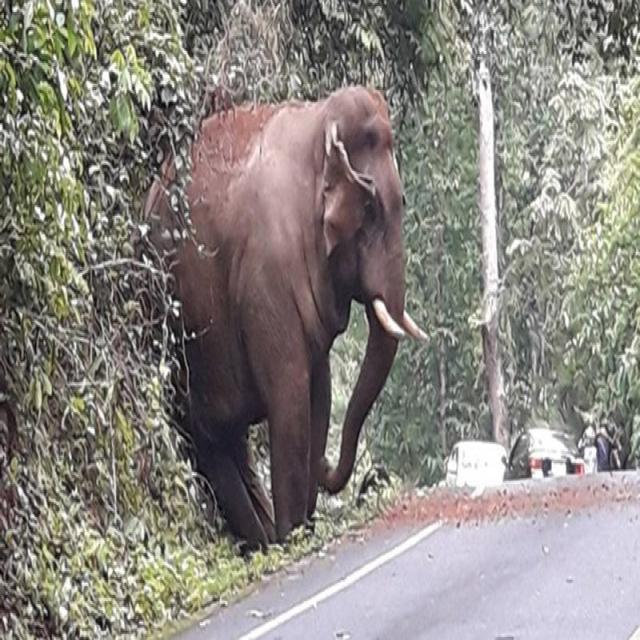Elephant: (119, 72, 435, 584)
